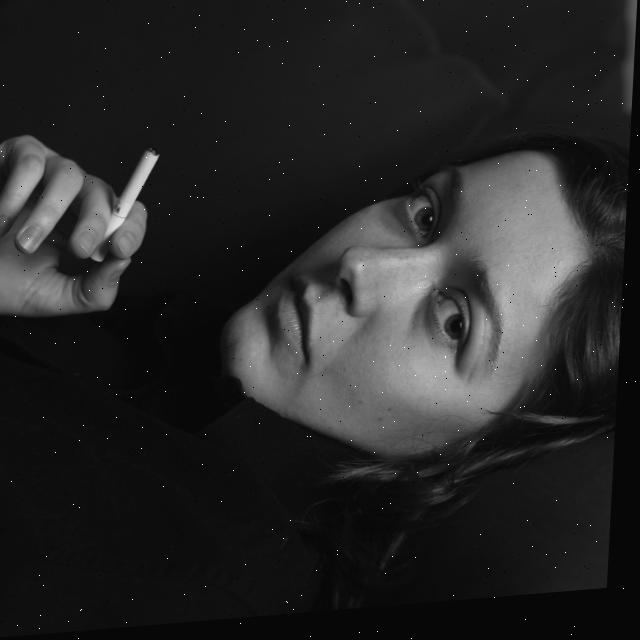cigarette: (92, 148, 163, 265)
